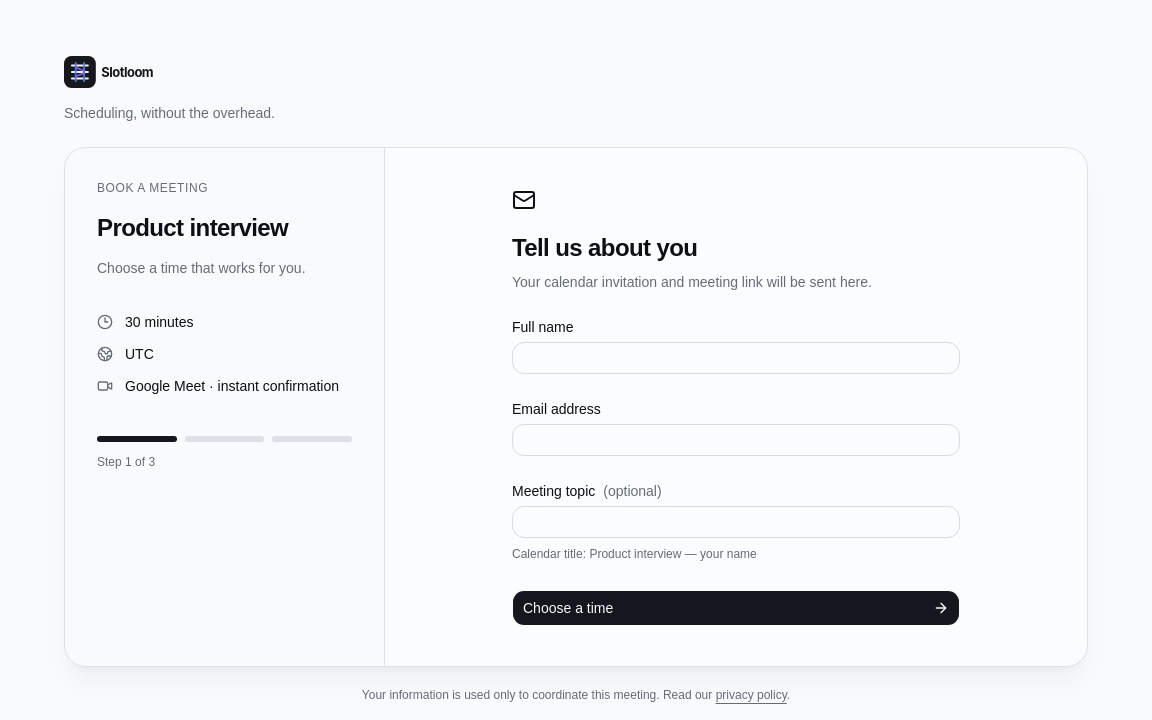
Test: PublicBooking confirmation › books immediately and shows the provider meeting link
Expected: the heading "Tell us about you" is shown, [512,234,697,261]
Type "Taylor Visitor" into the field labelled "Full name" at (736,358), box [512,342,960,374]
Type "taylor@example.com" into the field labelled "Email address" at (736,440), box [512,424,960,456]
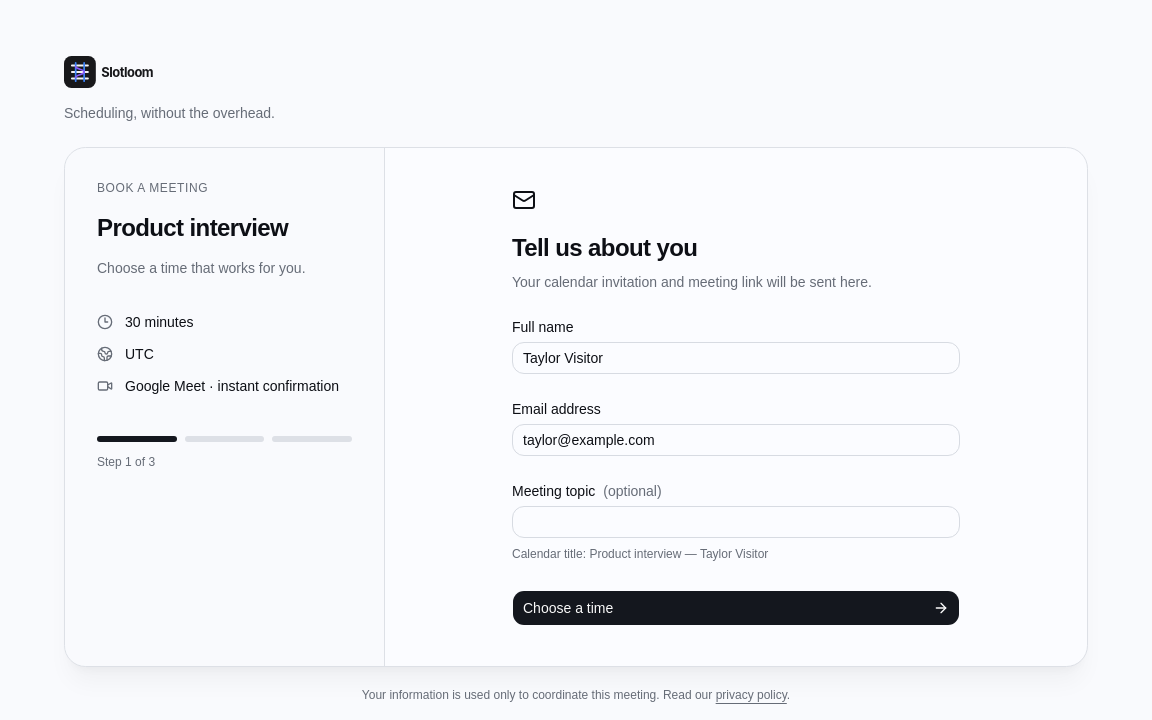
Expected: the text "Calendar title: Product interview — Taylor Visitor" is shown, [512,547,768,561]
Type "Frontend role" into the field labelled "Meeting topic (optional)" at (736,522), box [512,506,960,538]
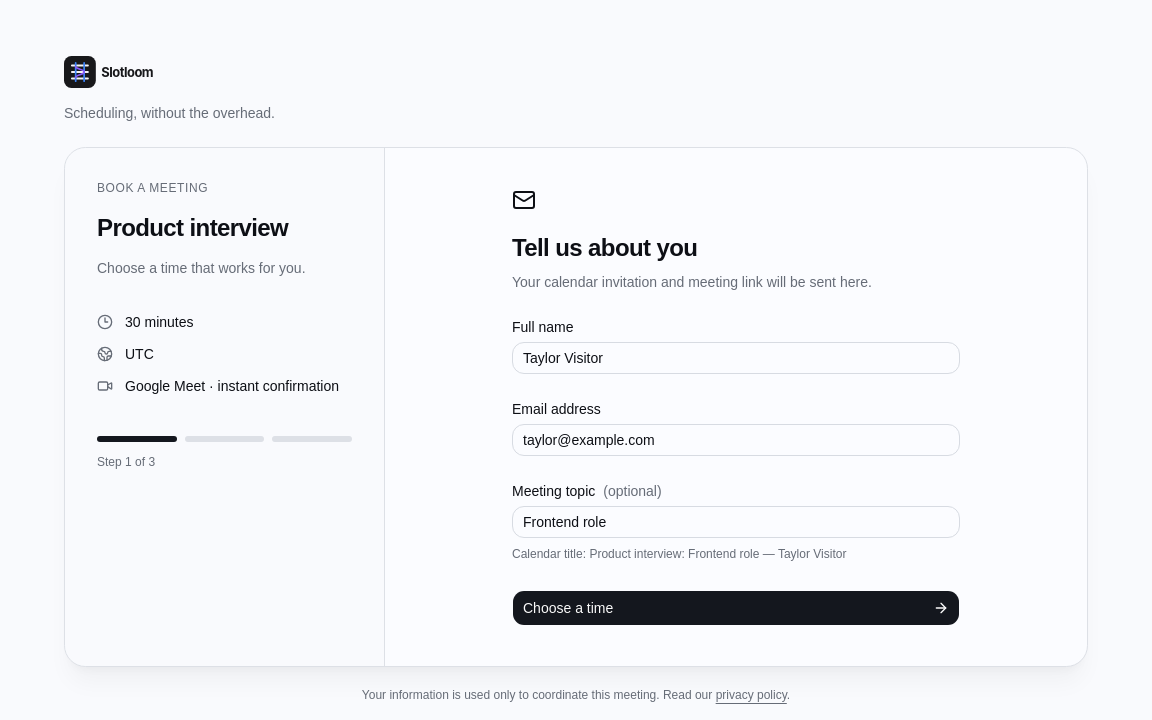
Expected: the text "Calendar title:" shows "Product interview: Frontend role — Taylor Visitor", [512,547,846,561]
Click the button "Choose a time" at (568,608), box [512,590,960,626]
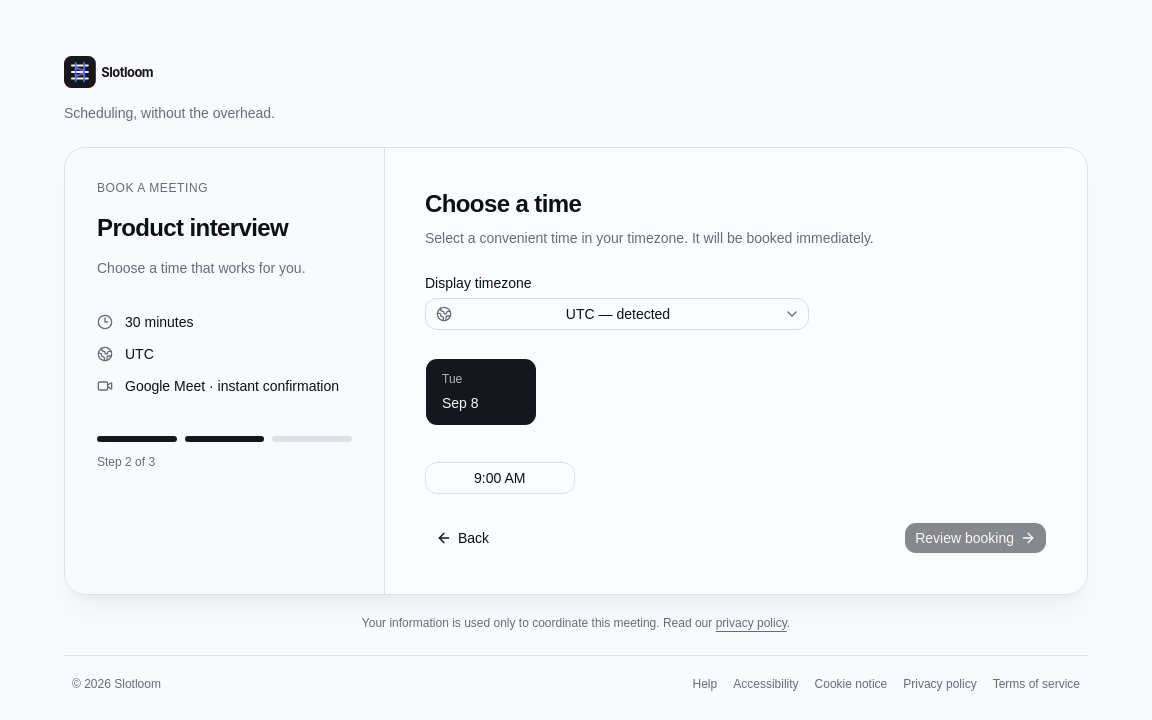
Expected: the heading "Choose a time" is shown, [425,190,581,217]
Click the button "9:00 AM" at (500,478), box [425,462,574,494]
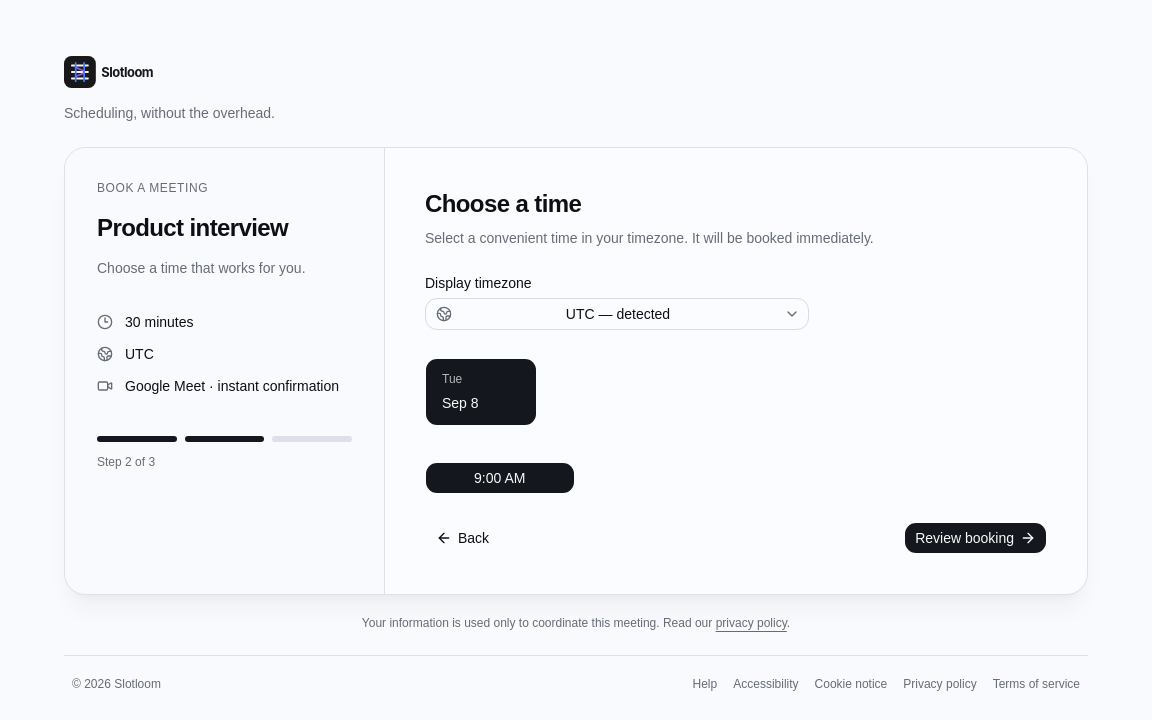
Click the button "Review booking" at (976,538), box [904,522,1047,554]
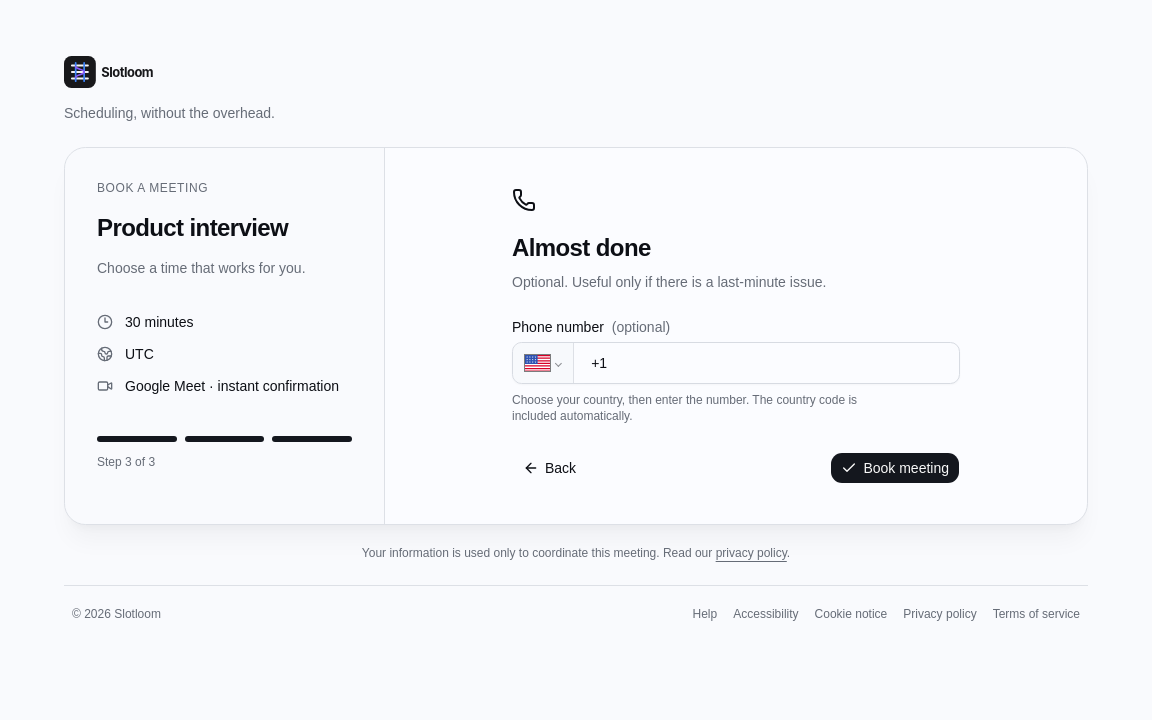
Expected: the heading "Almost done" is shown, [512,234,651,261]
Replace the text in the field labelled "Phone number (optional)" with "4155552671" at (769,363), box [579,343,959,383]
Click the button "Book meeting" at (895,468), box [830,452,960,484]
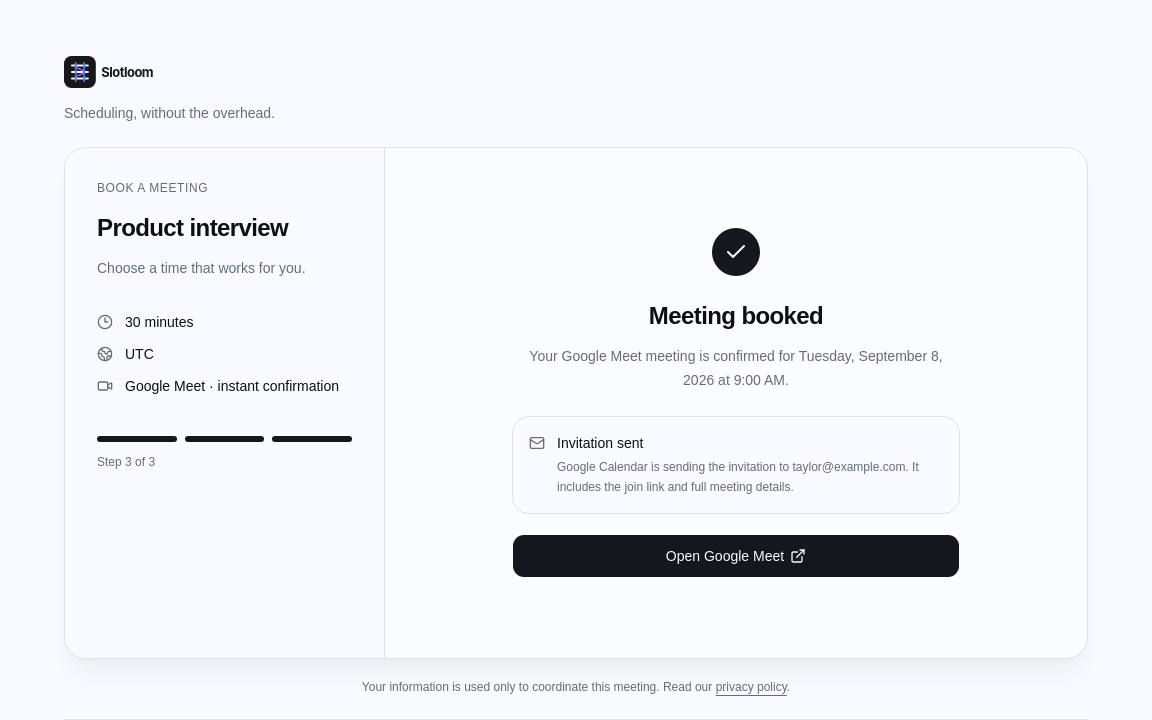
Expected: the heading "Meeting booked" is shown, [649,300,823,332]
Expected: the text "Google Meet meeting is confirmed" is shown, [512,344,960,392]
Expected: the text "Invitation sent" is shown, [557,435,643,451]
